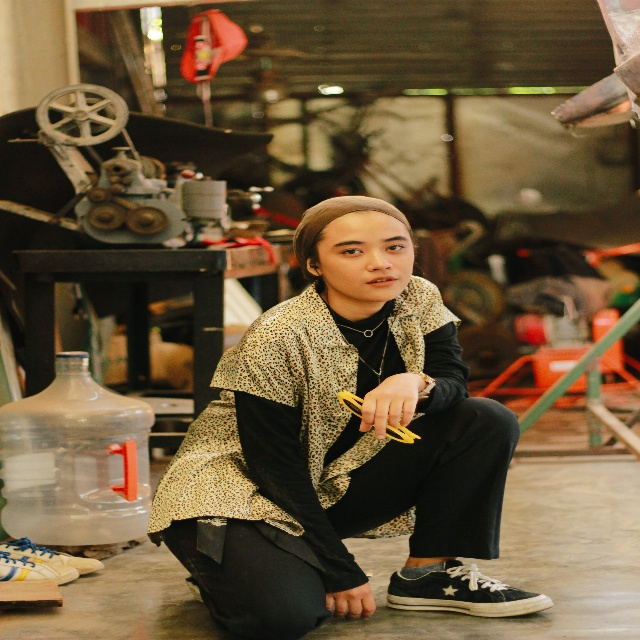Gafas: (337, 390, 421, 445)
Sin_guantes: (359, 373, 419, 440), (326, 581, 376, 621)
